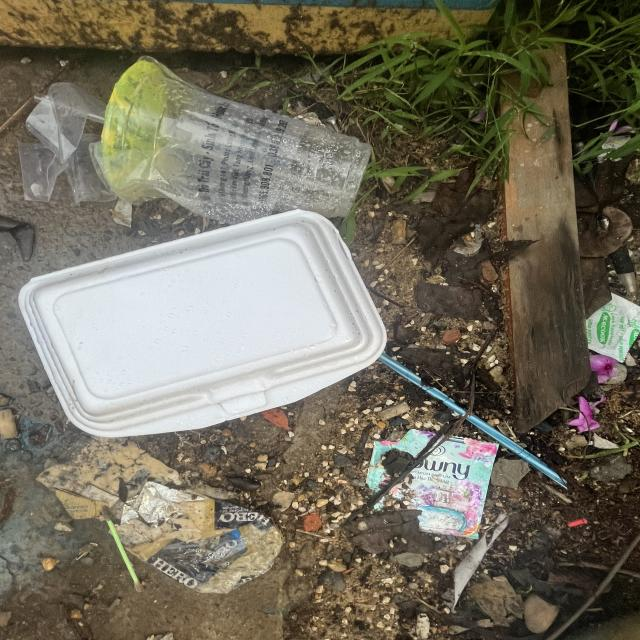drinking straw: (377, 352, 569, 491)
foam box: (16, 209, 388, 439)
packet: (364, 428, 500, 541), (585, 291, 640, 364)
plastic glass: (100, 58, 374, 218)
